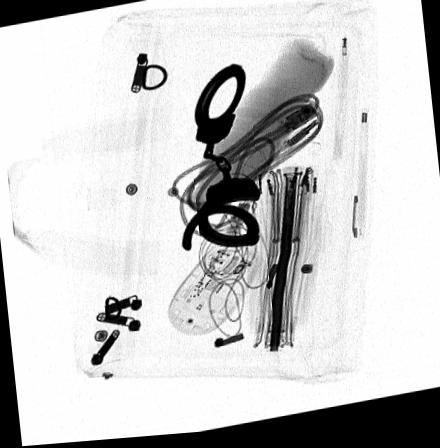HandCuffs: (182, 65, 261, 253)
